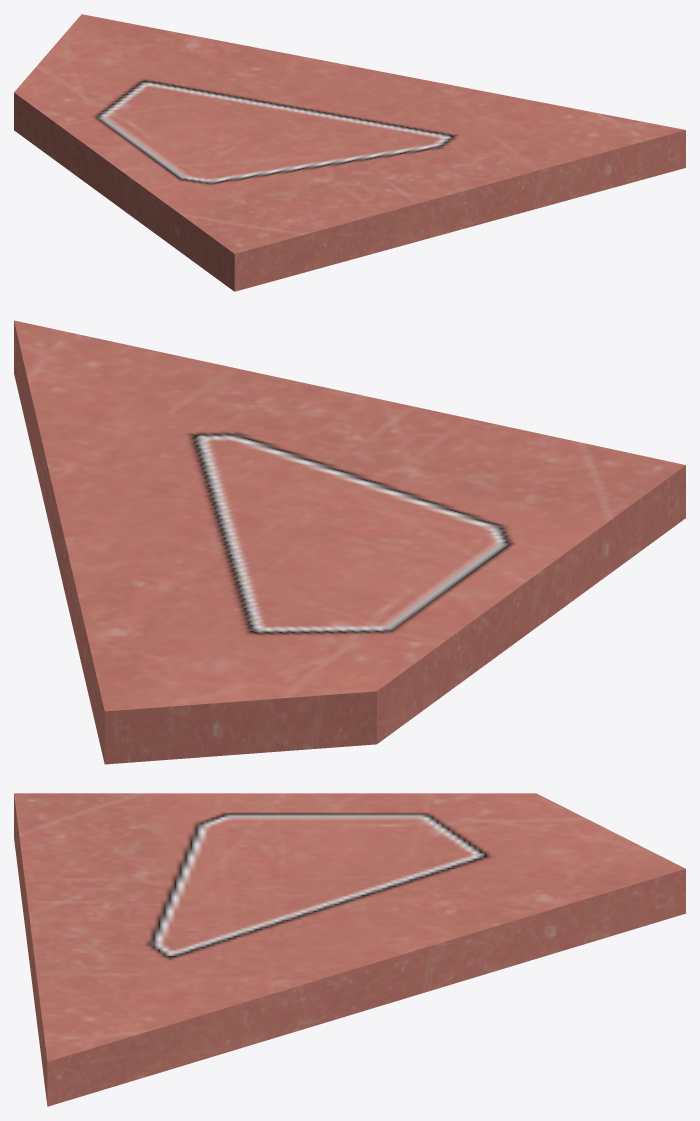
Rendered from SM_SJJ_HG_Wall06K.fbx.
3 views of the same model, one above another, from view 1: azimuth 30°, elevation 25°; view 2: azimuth 150°, elevation 25°; view 3: azimuth 270°, elevation 25° (orthographic). The views are drawn at different scales.
Visible parts, largest first — view 1: SM_SJJ_HG_Wall06K; view 2: SM_SJJ_HG_Wall06K; view 3: SM_SJJ_HG_Wall06K.
Part boxes in pixels (<box>): SM_SJJ_HG_Wall06K: <box>14,14,685,291</box>; SM_SJJ_HG_Wall06K: <box>14,320,685,764</box>; SM_SJJ_HG_Wall06K: <box>14,793,685,1106</box>.
Bounding box in the file's own units: 129 × 136 × 10.
1 material, 1 textured.
